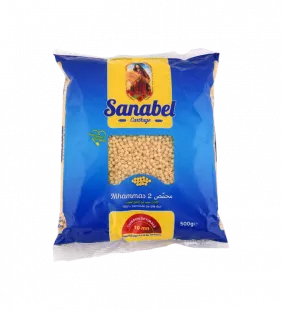SANABEL CARTHAGE: (44, 43, 237, 269)
